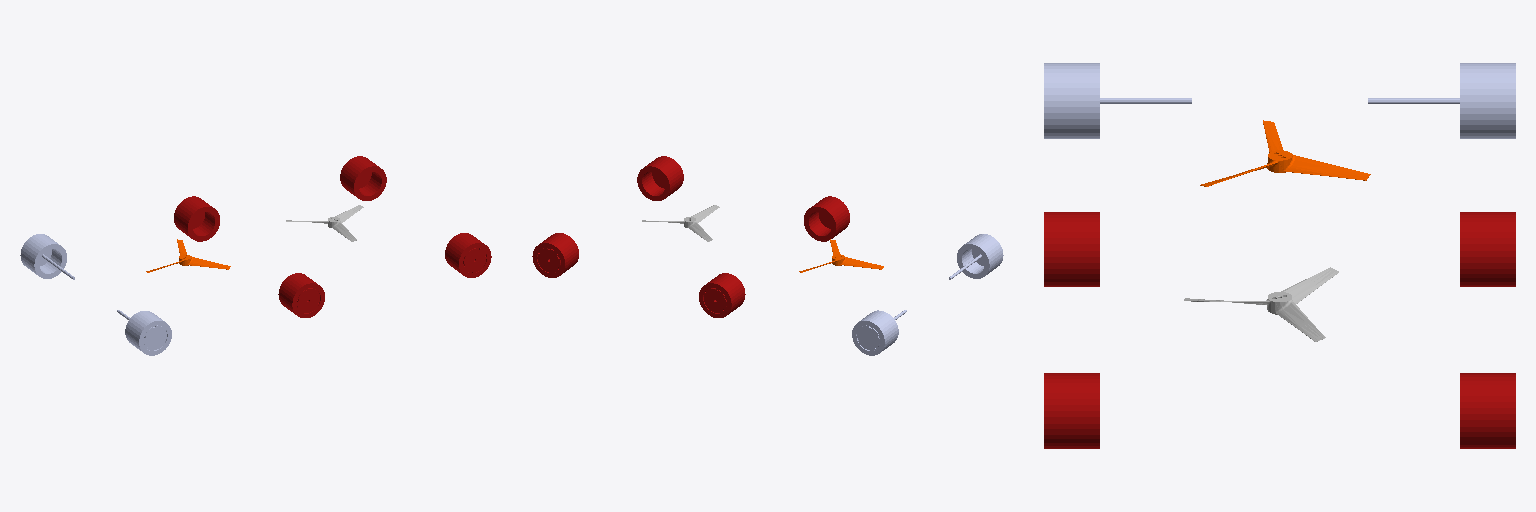
robot.urdf — carro_trepador:
<?xml version="1.0"?>
<!--
  Carro Trepador: modelo URDF para ROS 2 Humble (RViz y Gazebo Fortress).

  Origen: exportación de SolidWorks (sw_urdf_exporter) del ensamble Ensamblaje1_juan,
  adaptada a ROS 2. Cambios respecto a la exportación:
    - Rutas de mallas apuntan a carro_trepador_description (antes Ensamblaje1_juan).
    - Mallas visuales: las originales de SolidWorks, sin modificar.
    - Colisiones simplificadas: cajas para los chasis y cilindros para las ruedas.
    - Ruedas traseras pasan de fixed a continuous (giran libres, sin motor).
    - Ejes de las ruedas invertidos para que velocidad positiva = avanzar.
    - Agregados base_link (raíz sin inercia), marcos de las IMUs y bloques de Gazebo.
  Masas e inercias: las calculó SolidWorks; no se han verificado con el robot real.

  Convención de nombres (heredada de la exportación, se respeta tal cual en el código):
    chasis_trasero_joint = articulación central PASIVA entre los dos módulos.
    Algunos links terminan en "_Link" (L mayúscula) y otros en "_link".
-->
<robot name="carro_trepador">

  <!-- Raíz del robot, a nivel del suelo bajo el módulo trasero. Sin inercia porque
       KDL (robot_state_publisher) no admite inercia en el link raíz. -->
  <link name="base_link"/>
  <joint name="base_joint" type="fixed">
    <origin xyz="0 0 0.008" rpy="0 0 0"/>
    <parent link="base_link"/>
    <child link="chasis_trasero_link"/>
  </joint>

  <!-- ===================== Módulo trasero ===================== -->
  <!-- Colisión: caja del chasis, levantada 4 mm del suelo para que no roce al avanzar -->
  <link name="chasis_trasero_link">
    <inertial>
      <origin xyz="-0.0158576 0.000531638 0.0101393" rpy="0 0 0"/>
      <mass value="0.195854"/>
      <inertia ixx="0.000166021" ixy="5.73581e-07" ixz="-4.25011e-06" iyy="0.000177223" iyz="-1.04426e-07" izz="0.000321224"/>
    </inertial>
    <visual>
      <origin xyz="0 0 0" rpy="0 0 0"/>
      <geometry>
        <mesh filename="package://carro_trepador_description/meshes/chasis_trasero_link.STL"/>
      </geometry>
      <material name="chasis_trasero_link_color">
        <color rgba="0.698039 0.698039 0.698039 1"/>
      </material>
    </visual>
    <collision>
      <origin xyz="0.0057 0 0.01465" rpy="0 0 0"/>
      <geometry>
        <box size="0.163 0.18 0.0373"/>
      </geometry>
    </collision>
  </link>

  <!-- Rueda trasera derecha: LIBRE (sin motor) -->
  <link name="rueda_trasera_derecha_link">
    <inertial>
      <origin xyz="-2.35922e-16 -2.42861e-17 -0.00995722" rpy="0 0 0"/>
      <mass value="0.010419"/>
      <inertia ixx="1.25232e-06" ixy="1.32349e-23" ixz="-7.33877e-22" iyy="1.25232e-06" iyz="-1.49829e-22" izz="1.46759e-06"/>
    </inertial>
    <visual>
      <origin xyz="0 0 0" rpy="0 0 0"/>
      <geometry>
        <mesh filename="package://carro_trepador_description/meshes/rueda_trasera_derecha_link.STL"/>
      </geometry>
      <material name="rueda_trasera_derecha_link_color">
        <color rgba="0.792157 0.819608 0.933333 1"/>
      </material>
    </visual>
    <collision>
      <origin xyz="0 0 -0.011" rpy="0 0 0"/>
      <geometry>
        <cylinder radius="0.015" length="0.022"/>
      </geometry>
    </collision>
  </link>
  <joint name="rueda_trasera_derecha_joint" type="continuous">
    <origin xyz="-0.064324 -0.0939 0.007" rpy="1.5708 -0.097375 0"/>
    <parent link="chasis_trasero_link"/>
    <child link="rueda_trasera_derecha_link"/>
    <!-- Eje invertido respecto a la exportación: velocidad positiva = avanzar -->
    <axis xyz="0 0 -1"/>
    <dynamics damping="0.0001" friction="0.0"/>
  </joint>

  <!-- Rueda trasera izquierda: LIBRE (sin motor) -->
  <link name="rueda_trasera_izquierda_link">
    <inertial>
      <origin xyz="-1.11022e-16 -1.96512e-16 0.00995722" rpy="0 0 0"/>
      <mass value="0.010419"/>
      <inertia ixx="1.25232e-06" ixy="-1.45953e-22" ixz="3.44709e-22" iyy="1.25232e-06" iyz="8.68983e-22" izz="1.46759e-06"/>
    </inertial>
    <visual>
      <origin xyz="0 0 0" rpy="0 0 0"/>
      <geometry>
        <mesh filename="package://carro_trepador_description/meshes/rueda_trasera_izquierda_link.STL"/>
      </geometry>
      <material name="rueda_trasera_izquierda_link_color">
        <color rgba="0.792157 0.819608 0.933333 1"/>
      </material>
    </visual>
    <collision>
      <origin xyz="0 0 0.011" rpy="0 0 0"/>
      <geometry>
        <cylinder radius="0.015" length="0.022"/>
      </geometry>
    </collision>
  </link>
  <joint name="rueda_trasera_izquierda_joint" type="continuous">
    <origin xyz="-0.064324 0.0939 0.007" rpy="1.5708 0 0"/>
    <parent link="chasis_trasero_link"/>
    <child link="rueda_trasera_izquierda_link"/>
    <!-- Eje invertido respecto a la exportación: velocidad positiva = avanzar -->
    <axis xyz="0 0 -1"/>
    <dynamics damping="0.0001" friction="0.0"/>
  </joint>

  <!-- Rueda media derecha: MOTOR N20 -->
  <link name="rueda_media_derecha_link">
    <inertial>
      <origin xyz="1.59595e-16 -1.47695e-16 -0.00940086" rpy="0 0 0"/>
      <mass value="0.0101299"/>
      <inertia ixx="1.16862e-06" ixy="1.81635e-22" ixz="5.89049e-22" iyy="1.16862e-06" iyz="-5.44704e-22" izz="1.46736e-06"/>
    </inertial>
    <visual>
      <origin xyz="0 0 0" rpy="0 0 0"/>
      <geometry>
        <mesh filename="package://carro_trepador_description/meshes/rueda_media_derecha_link.STL"/>
      </geometry>
      <material name="rueda_media_derecha_link_color">
        <color rgba="0.694118 0.0980392 0.0980392 1"/>
      </material>
    </visual>
    <collision>
      <origin xyz="0 0 -0.011" rpy="0 0 0"/>
      <geometry>
        <cylinder radius="0.015" length="0.022"/>
      </geometry>
    </collision>
  </link>
  <joint name="rueda_media_derecha_joint" type="continuous">
    <origin xyz="0.075676 -0.0939 0.007" rpy="1.5708 0 0"/>
    <parent link="chasis_trasero_link"/>
    <child link="rueda_media_derecha_link"/>
    <!-- Eje invertido respecto a la exportación: velocidad positiva = avanzar -->
    <axis xyz="0 0 -1"/>
    <dynamics damping="0.0001" friction="0.0"/>
  </joint>

  <!-- Rueda media izquierda: MOTOR N20 -->
  <link name="rueda_media_izquierda_Link">
    <inertial>
      <origin xyz="1.17961e-16 1.85751e-16 0.00940086" rpy="0 0 0"/>
      <mass value="0.0101299"/>
      <inertia ixx="1.16862e-06" ixy="-1.12703e-22" ixz="-3.8289e-22" iyy="1.16862e-06" iyz="-7.97245e-22" izz="1.46736e-06"/>
    </inertial>
    <visual>
      <origin xyz="0 0 0" rpy="0 0 0"/>
      <geometry>
        <mesh filename="package://carro_trepador_description/meshes/rueda_media_izquierda_Link.STL"/>
      </geometry>
      <material name="rueda_media_izquierda_Link_color">
        <color rgba="0.694118 0.0980392 0.0980392 1"/>
      </material>
    </visual>
    <collision>
      <origin xyz="0 0 0.011" rpy="0 0 0"/>
      <geometry>
        <cylinder radius="0.015" length="0.022"/>
      </geometry>
    </collision>
  </link>
  <joint name="rueda_media_izquierda_joint" type="continuous">
    <origin xyz="0.075676 0.0939 0.007" rpy="1.5708 0.0017968 0"/>
    <parent link="chasis_trasero_link"/>
    <child link="rueda_media_izquierda_Link"/>
    <!-- Eje invertido respecto a la exportación: velocidad positiva = avanzar -->
    <axis xyz="0 0 -1"/>
    <dynamics damping="0.0001" friction="0.0"/>
  </joint>

  <!-- Hélice de la turbina trasera (solo visual, sin colisión) -->
  <link name="helice_trasera_link">
    <inertial>
      <origin xyz="-8.52668e-08 4.11093e-07 -0.00272532" rpy="0 0 0"/>
      <mass value="0.00076711"/>
      <inertia ixx="6.52743e-08" ixy="8.16885e-11" ixz="-1.54797e-13" iyy="6.52197e-08" iyz="-5.43618e-13" izz="1.27832e-07"/>
    </inertial>
    <visual>
      <origin xyz="0 0 0" rpy="0 0 0"/>
      <geometry>
        <mesh filename="package://carro_trepador_description/meshes/helice_trasera_link.STL"/>
      </geometry>
      <material name="helice_trasera_link_color">
        <color rgba="1 0.415686 0 1"/>
      </material>
    </visual>
  </link>
  <joint name="helice_trasera_joint" type="continuous">
    <origin xyz="0.017176 0 0.02102" rpy="0 0 0"/>
    <parent link="chasis_trasero_link"/>
    <child link="helice_trasera_link"/>
    <axis xyz="0 0 1"/>
  </joint>

  <!-- IMU trasera (GY-521 / MPU6050): posición del chip tomada del ensamble de SolidWorks.
       Placa plana, chip hacia arriba, lado largo hacia adelante, del lado derecho del módulo.
       Supuesto: el eje X del sensor apunta hacia adelante. Verificar con la serigrafía de la placa. -->
  <link name="imu_rear_link"/>
  <joint name="imu_rear_joint" type="fixed">
    <origin xyz="-0.0024 -0.054 0.0186" rpy="0 0 0"/>
    <parent link="chasis_trasero_link"/>
    <child link="imu_rear_link"/>
  </joint>

  <!-- ===================== Articulación central ===================== -->
  <!-- PASIVA: sin motor, el módulo delantero se dobla en pitch al pasar del suelo a la pared -->
  <joint name="chasis_trasero_joint" type="revolute">
    <origin xyz="0.083176 -0.03 0.004" rpy="1.5708 0 0"/>
    <parent link="chasis_trasero_link"/>
    <child link="chasis_delantero_link"/>
    <axis xyz="0 0 1"/>
    <limit lower="-1.5708" upper="1.5708" effort="10" velocity="1"/>
    <dynamics damping="0.001" friction="0.0"/>
  </joint>

  <!-- ===================== Módulo delantero ===================== -->
  <!-- Su marco está girado 90° en x respecto al trasero: aquí y = arriba, z = lateral -->
  <link name="chasis_delantero_link">
    <inertial>
      <origin xyz="0.0941408 0.00650779 -0.0298937" rpy="0 0 0"/>
      <mass value="0.1516"/>
      <inertia ixx="0.000161369" ixy="-1.0865e-05" ixz="-1.95383e-07" iyy="0.000338517" iyz="-6.9859e-08" izz="0.000210796"/>
    </inertial>
    <visual>
      <origin xyz="0 0 0" rpy="0 0 0"/>
      <geometry>
        <mesh filename="package://carro_trepador_description/meshes/chasis_delantero_link.STL"/>
      </geometry>
      <material name="chasis_delantero_link_color">
        <color rgba="0.698039 0.698039 0.698039 1"/>
      </material>
    </visual>
    <collision>
      <origin xyz="0.0767 0.02345 -0.03" rpy="0 0 0"/>
      <geometry>
        <box size="0.1614 0.0629 0.1818"/>
      </geometry>
    </collision>
  </link>

  <!-- Rueda delantera derecha: MOTOR N20 -->
  <link name="rueda_delantera_derecha_Link">
    <inertial>
      <origin xyz="8.32667e-17 -2.03749e-16 -0.00940086" rpy="0 0 0"/>
      <mass value="0.0101299"/>
      <inertia ixx="1.16862e-06" ixy="1.40621e-23" ixz="3.50644e-22" iyy="1.16862e-06" iyz="-6.69696e-22" izz="1.46736e-06"/>
    </inertial>
    <visual>
      <origin xyz="0 0 0" rpy="0 0 0"/>
      <geometry>
        <mesh filename="package://carro_trepador_description/meshes/rueda_delantera_derecha_Link.STL"/>
      </geometry>
      <material name="rueda_delantera_derecha_Link_color">
        <color rgba="0.694118 0.0980392 0.0980392 1"/>
      </material>
    </visual>
    <collision>
      <origin xyz="0 0 -0.011" rpy="0 0 0"/>
      <geometry>
        <cylinder radius="0.015" length="0.022"/>
      </geometry>
    </collision>
  </link>
  <joint name="rueda_delantera_derecha_joint" type="continuous">
    <origin xyz="0.14451 0.0027404 0.0639" rpy="0 0 -0.0017968"/>
    <parent link="chasis_delantero_link"/>
    <child link="rueda_delantera_derecha_Link"/>
    <!-- Eje invertido respecto a la exportación: velocidad positiva = avanzar -->
    <axis xyz="0 0 -1"/>
    <dynamics damping="0.0001" friction="0.0"/>
  </joint>

  <!-- Rueda delantera izquierda: MOTOR N20 -->
  <link name="rueda_delantera_izquierda_Link">
    <inertial>
      <origin xyz="-1.94289e-16 -1.66913e-16 0.00940086" rpy="0 0 0"/>
      <mass value="0.0101299"/>
      <inertia ixx="1.16862e-06" ixy="8.23045e-23" ixz="2.5798e-22" iyy="1.16862e-06" iyz="6.48958e-22" izz="1.46736e-06"/>
    </inertial>
    <visual>
      <origin xyz="0 0 0" rpy="0 0 0"/>
      <geometry>
        <mesh filename="package://carro_trepador_description/meshes/rueda_delantera_izquierda_Link.STL"/>
      </geometry>
      <material name="rueda_delantera_izquierda_Link_color">
        <color rgba="0.694118 0.0980392 0.0980392 1"/>
      </material>
    </visual>
    <collision>
      <origin xyz="0 0 0.011" rpy="0 0 0"/>
      <geometry>
        <cylinder radius="0.015" length="0.022"/>
      </geometry>
    </collision>
  </link>
  <joint name="rueda_delantera_izquierda_joint" type="continuous">
    <origin xyz="0.14451 0.0027404 -0.1239" rpy="0 0 -0.0017968"/>
    <parent link="chasis_delantero_link"/>
    <child link="rueda_delantera_izquierda_Link"/>
    <!-- Eje invertido respecto a la exportación: velocidad positiva = avanzar -->
    <axis xyz="0 0 -1"/>
    <dynamics damping="0.0001" friction="0.0"/>
  </joint>

  <!-- Hélice de la turbina delantera (solo visual, sin colisión) -->
  <link name="helice_delantera_link">
    <inertial>
      <origin xyz="-5.50488e-07 -2.32204e-07 -0.00272532" rpy="0 0 0"/>
      <mass value="0.000767098"/>
      <inertia ixx="6.51905e-08" ixy="-5.99257e-11" ixz="5.79836e-13" iyy="6.52992e-08" iyz="1.94077e-13" izz="1.27828e-07"/>
    </inertial>
    <visual>
      <origin xyz="0 0 0" rpy="0 0 0"/>
      <geometry>
        <mesh filename="package://carro_trepador_description/meshes/helice_delantera_link.STL"/>
      </geometry>
      <material name="helice_delantera_link_color">
        <color rgba="0.752941 0.752941 0.752941 1"/>
      </material>
    </visual>
  </link>
  <joint name="helice_delantera_joint" type="continuous">
    <origin xyz="0.069799 0.018025 -0.030006" rpy="-1.5708 0 -0.0017968"/>
    <parent link="chasis_delantero_link"/>
    <child link="helice_delantera_link"/>
    <axis xyz="0 0 1"/>
  </joint>

  <!-- IMU delantera (GY-521 / MPU6050): posición del chip tomada del ensamble de SolidWorks.
       Placa plana, chip hacia arriba, lado largo hacia adelante, del lado derecho del módulo.
       El giro de -90° en x compensa el marco girado del chasis delantero (queda x adelante, z arriba).
       Mismo supuesto que la trasera sobre el eje X del sensor. -->
  <link name="imu_front_link"/>
  <joint name="imu_front_joint" type="fixed">
    <origin xyz="0.0245 0.0125 0.01" rpy="-1.5708 0 0"/>
    <parent link="chasis_delantero_link"/>
    <child link="imu_front_link"/>
  </joint>

  <!-- ===================== Gazebo (Fortress) ===================== -->
  <!-- RViz ignora estos bloques. -->

  <!-- Fricción de las llantas: alta al rodar (mu2 = 1.0) y baja de lado (mu1 = 0.3,
       en la dirección del eje, fdir1). Con fricción igual en todas las direcciones el
       robot NO gira en Gazebo: 6 ruedas en fila frenan el giro. Probado: con mu1 = 0.3
       gira bien; con 0.5 o más casi no gira. Ver nota en el README. -->
  <gazebo reference="rueda_trasera_derecha_link">
    <mu1>0.3</mu1>
    <mu2>1.0</mu2>
    <fdir1>0 0 1</fdir1>
  </gazebo>
  <gazebo reference="rueda_trasera_izquierda_link">
    <mu1>0.3</mu1>
    <mu2>1.0</mu2>
    <fdir1>0 0 1</fdir1>
  </gazebo>
  <gazebo reference="rueda_media_derecha_link">
    <mu1>0.3</mu1>
    <mu2>1.0</mu2>
    <fdir1>0 0 1</fdir1>
  </gazebo>
  <gazebo reference="rueda_media_izquierda_Link">
    <mu1>0.3</mu1>
    <mu2>1.0</mu2>
    <fdir1>0 0 1</fdir1>
  </gazebo>
  <gazebo reference="rueda_delantera_derecha_Link">
    <mu1>0.3</mu1>
    <mu2>1.0</mu2>
    <fdir1>0 0 1</fdir1>
  </gazebo>
  <gazebo reference="rueda_delantera_izquierda_Link">
    <mu1>0.3</mu1>
    <mu2>1.0</mu2>
    <fdir1>0 0 1</fdir1>
  </gazebo>

  <!-- Chasis con poca fricción, por si tocan el suelo en una transición -->
  <gazebo reference="chasis_trasero_link">
    <mu1>0.2</mu1>
    <mu2>0.2</mu2>
  </gazebo>
  <gazebo reference="chasis_delantero_link">
    <mu1>0.2</mu1>
    <mu2>0.2</mu2>
  </gazebo>

  <!-- IMUs simuladas. Publican en los mismos tópicos que el firmware real. -->
  <gazebo reference="imu_rear_link">
    <sensor name="imu_rear" type="imu">
      <always_on>true</always_on>
      <update_rate>100</update_rate>
      <topic>imu/rear/data</topic>
      <ignition_frame_id>imu_rear_link</ignition_frame_id>
    </sensor>
  </gazebo>
  <gazebo reference="imu_front_link">
    <sensor name="imu_front" type="imu">
      <always_on>true</always_on>
      <update_rate>100</update_rate>
      <topic>imu/front/data</topic>
      <ignition_frame_id>imu_front_link</ignition_frame_id>
    </sensor>
  </gazebo>

  <gazebo>
    <!-- Tracción solo para PRUEBAS en simulación: mueve las 4 ruedas con motor
         a partir de /sim/cmd_vel. No forma parte de la arquitectura del robot real. -->
    <plugin filename="ignition-gazebo-diff-drive-system" name="ignition::gazebo::systems::DiffDrive">
      <left_joint>rueda_media_izquierda_joint</left_joint>
      <left_joint>rueda_delantera_izquierda_joint</left_joint>
      <right_joint>rueda_media_derecha_joint</right_joint>
      <right_joint>rueda_delantera_derecha_joint</right_joint>
      <!-- Distancia entre los centros de las llantas (eje a ±93.9 mm, llanta 11 mm hacia adentro) -->
      <wheel_separation>0.1658</wheel_separation>
      <wheel_radius>0.015</wheel_radius>
      <topic>sim/cmd_vel</topic>
      <odom_topic>sim/odom</odom_topic>
      <frame_id>odom</frame_id>
      <child_frame_id>base_link</child_frame_id>
      <odom_publish_frequency>30</odom_publish_frequency>
    </plugin>

    <!-- Publica el ángulo de todas las articulaciones (incluida la central) -->
    <plugin filename="ignition-gazebo-joint-state-publisher-system" name="ignition::gazebo::systems::JointStatePublisher">
      <topic>joint_states</topic>
    </plugin>
  </gazebo>

</robot>

--- Facts derived from the render (not from the file) ---
Views: 3 orthographic renders of the robot side by side, from view 1: azimuth 30°, elevation 25°; view 2: azimuth 150°, elevation 25°; view 3: azimuth 270°, elevation 25°.
Robot: carro_trepador — 13 links, 12 joints (1 revolute, 8 continuous, 3 fixed); root link base_link; default pose: all joints at 0.
Visible links, largest first — view 1: rueda_trasera_derecha_link, rueda_trasera_izquierda_link, rueda_media_derecha_link, rueda_media_izquierda_Link, rueda_delantera_derecha_Link, rueda_delantera_izquierda_Link, helice_delantera_link, helice_trasera_link; view 2: rueda_trasera_izquierda_link, rueda_trasera_derecha_link, rueda_media_derecha_link, rueda_media_izquierda_Link, rueda_delantera_izquierda_Link, rueda_delantera_derecha_Link, helice_delantera_link, helice_trasera_link; view 3: rueda_trasera_derecha_link, rueda_trasera_izquierda_link, rueda_delantera_derecha_Link, rueda_delantera_izquierda_Link, rueda_media_derecha_link, rueda_media_izquierda_Link, helice_delantera_link, helice_trasera_link.
Boxes of the visible links, <box> form: rueda_trasera_derecha_link: <box>117,310,171,355</box>; rueda_trasera_izquierda_link: <box>20,234,74,279</box>; rueda_media_derecha_link: <box>278,273,324,317</box>; rueda_media_izquierda_Link: <box>174,196,219,241</box>; rueda_delantera_derecha_Link: <box>445,233,491,277</box>; rueda_delantera_izquierda_Link: <box>340,156,386,200</box>; helice_delantera_link: <box>286,205,363,241</box>; helice_trasera_link: <box>146,239,230,272</box>; rueda_trasera_izquierda_link: <box>852,310,906,355</box>; rueda_trasera_derecha_link: <box>949,234,1003,279</box>; rueda_media_derecha_link: <box>804,196,849,241</box>; rueda_media_izquierda_Link: <box>699,273,745,317</box>; rueda_delantera_izquierda_Link: <box>532,233,578,277</box>; rueda_delantera_derecha_Link: <box>637,156,683,200</box>; helice_delantera_link: <box>642,205,719,241</box>; helice_trasera_link: <box>799,239,883,272</box>; rueda_trasera_derecha_link: <box>1044,63,1191,138</box>; rueda_trasera_izquierda_link: <box>1368,63,1515,138</box>; rueda_delantera_derecha_Link: <box>1044,373,1099,448</box>; rueda_delantera_izquierda_Link: <box>1460,373,1515,448</box>; rueda_media_derecha_link: <box>1044,212,1099,286</box>; rueda_media_izquierda_Link: <box>1460,212,1515,286</box>; helice_delantera_link: <box>1184,267,1338,341</box>; helice_trasera_link: <box>1200,120,1370,186</box>.
Bounding box of the posed robot: 0.322 × 0.1878 × 0.0303 m (x, y, z).
Meshes: 10 distinct files referenced, 8 mesh visuals loaded (8 binary STL); not drawn: 2 (reference not matched to a file when rendering).
